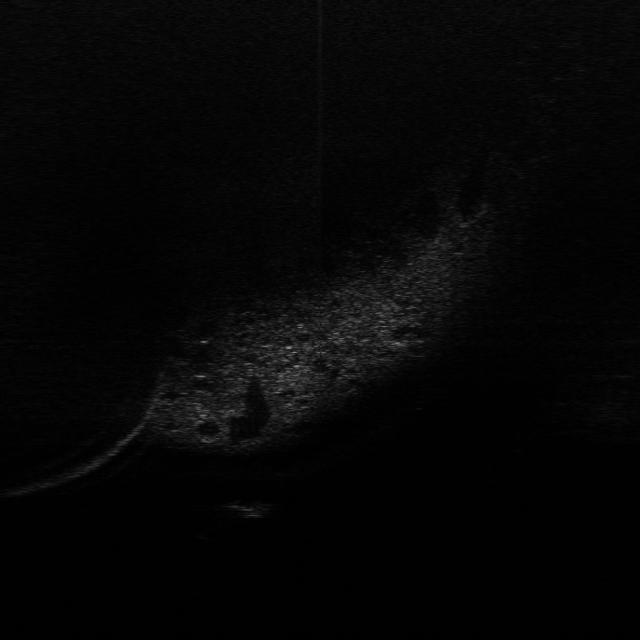cube: (224, 498, 274, 521)
